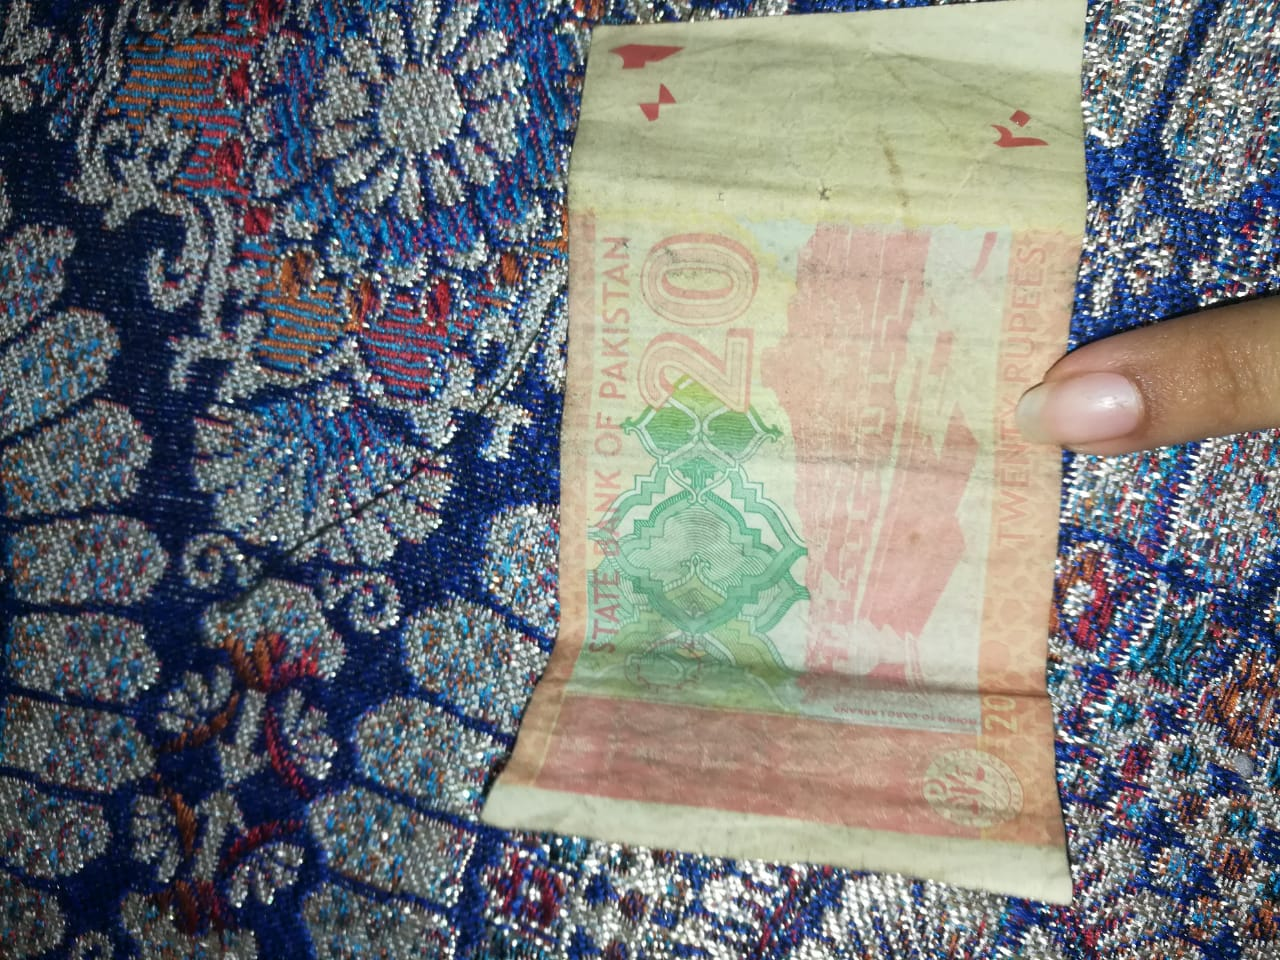20 rupee: (470, 12, 1151, 915)
